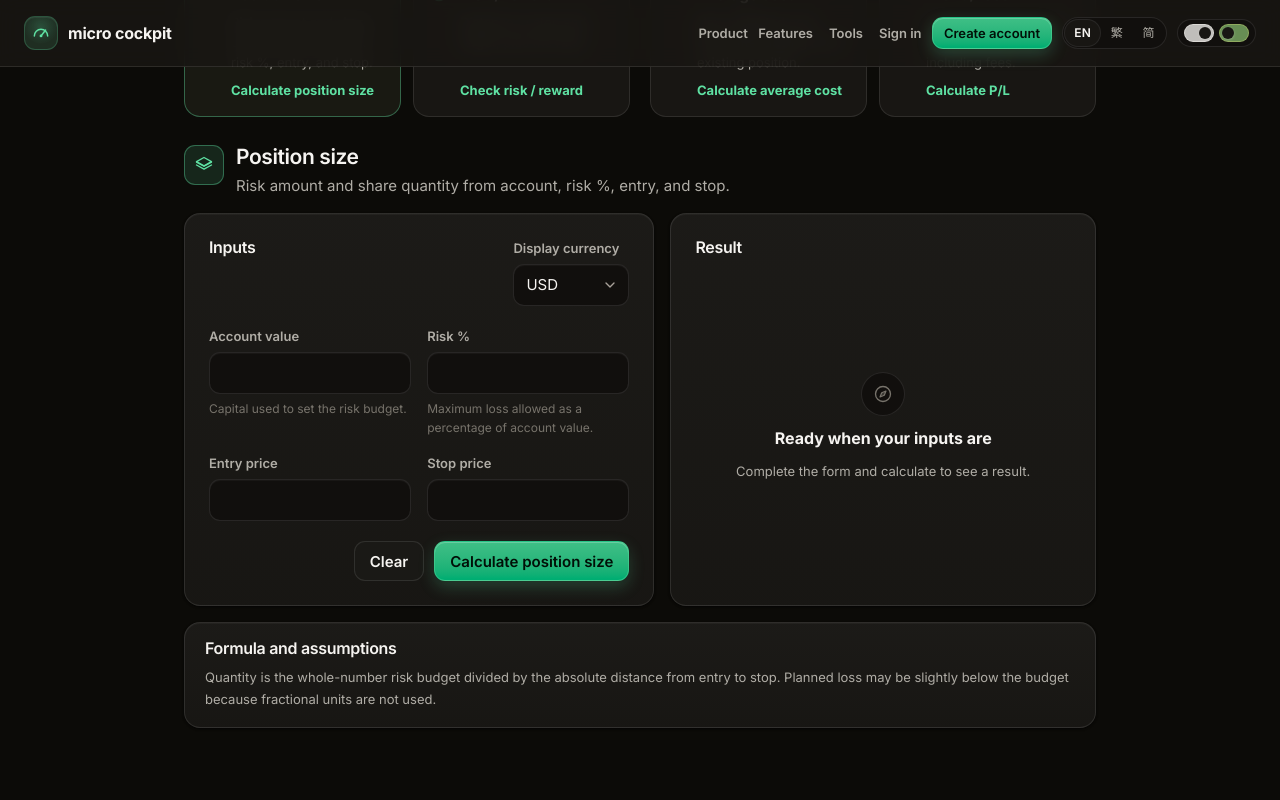
it: Tools page › validates missing inputs without producing a result
(page scrolled)
Expected: the heading "Position size" is shown, [236,144,358,169]
What coordinates should you click on to do the following:
click the button "Calculate position size"
I would click on:
 (532, 561)
Its box is [434,541,629,581].
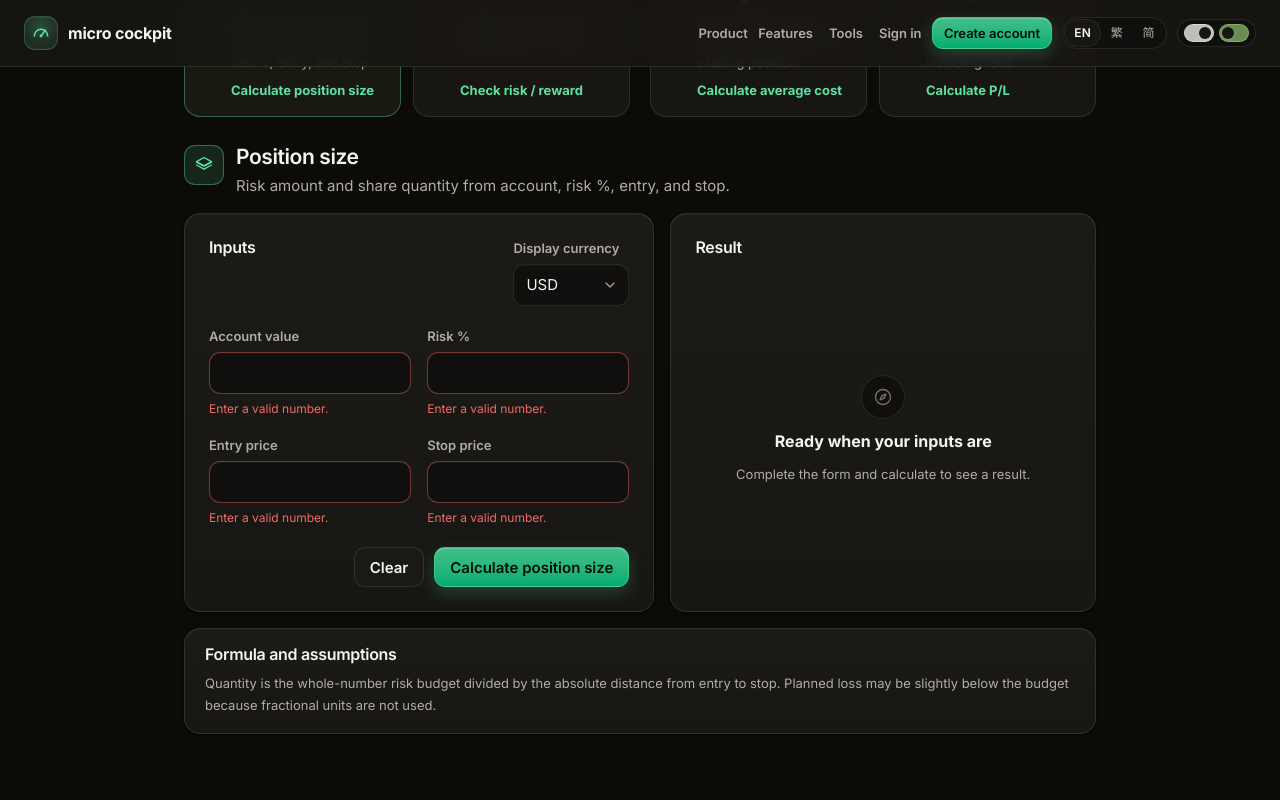
Expected: the text "Ready when your inputs are" is shown, [775,429,992,454]
Expected: the text "Enter a valid number." is shown 4 times, [209,401,328,416]; [427,401,546,416]; [209,510,328,525]; [427,510,546,525]
